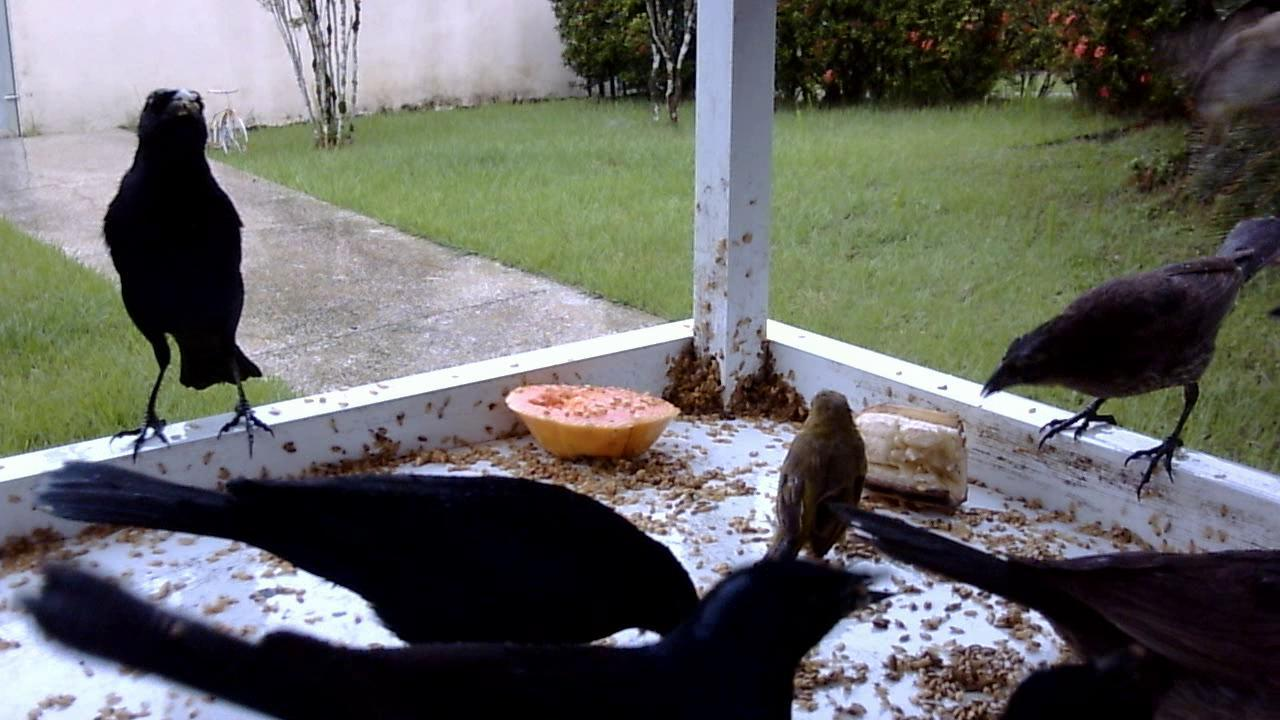canario_do_amazonas: (758, 384, 874, 575)
chupim: (31, 439, 766, 669), (67, 527, 878, 712), (832, 505, 1280, 720), (974, 211, 1276, 515), (94, 83, 280, 469)
